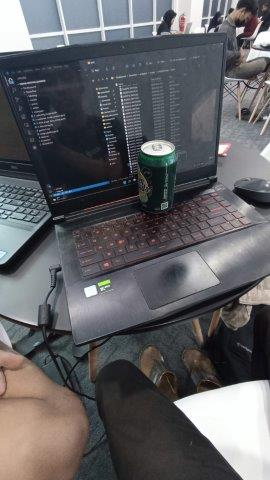kaleng: (138, 139, 178, 214)
